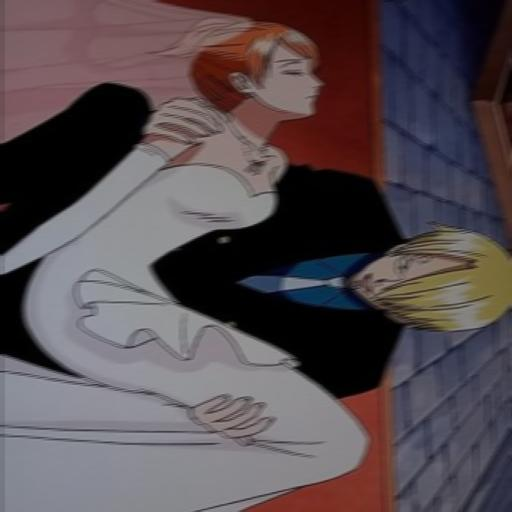Nami: (180, 15, 330, 133)
sanji: (349, 219, 512, 336)
